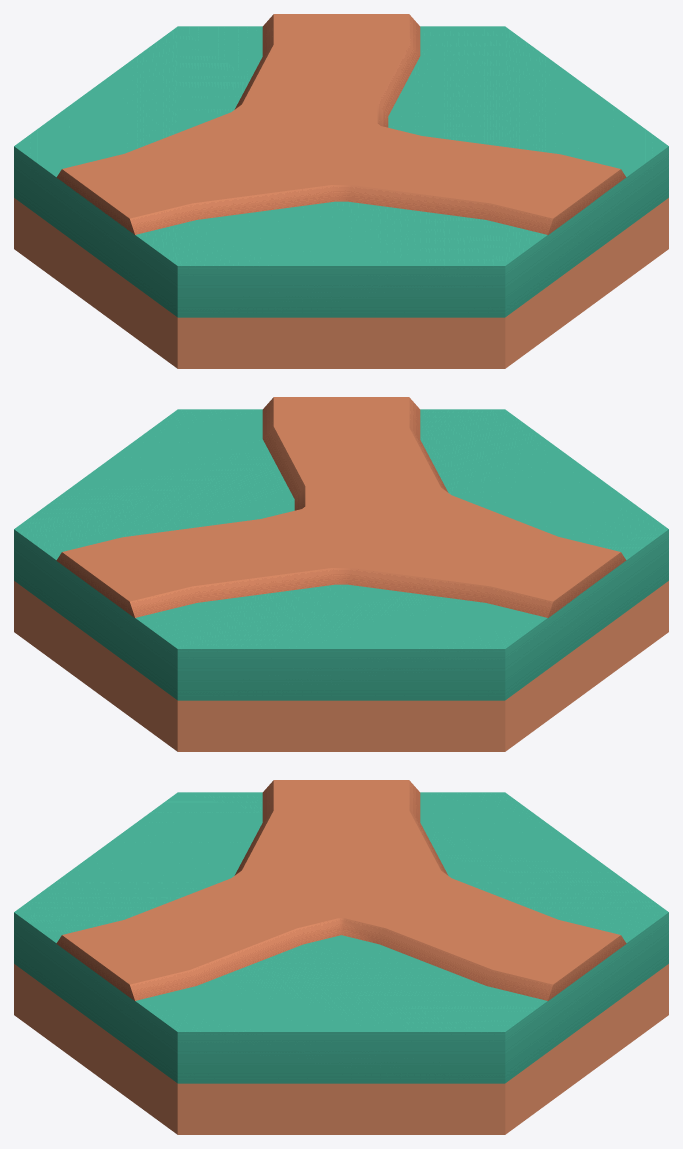
The model's file is grass-path-intersectionF.glb.
3 renders of one model, top to bottom at view 1: azimuth 30°, elevation 25°; view 2: azimuth 150°, elevation 25°; view 3: azimuth 270°, elevation 25°, orthographic.
Visible parts, largest first — view 1: grass, path-intersectionF; view 2: grass, path-intersectionF; view 3: grass, path-intersectionF.
Boxes of the visible parts, x1,y1,x2,y2 form: grass: [14, 26, 668, 368]; path-intersectionF: [56, 14, 626, 234]; grass: [14, 409, 668, 751]; path-intersectionF: [56, 397, 626, 617]; grass: [14, 792, 668, 1134]; path-intersectionF: [56, 780, 626, 1000].
Bounding box in the file's own units: 1 × 0.224 × 1.15.
Materials: 1 (1 with a texture image).
